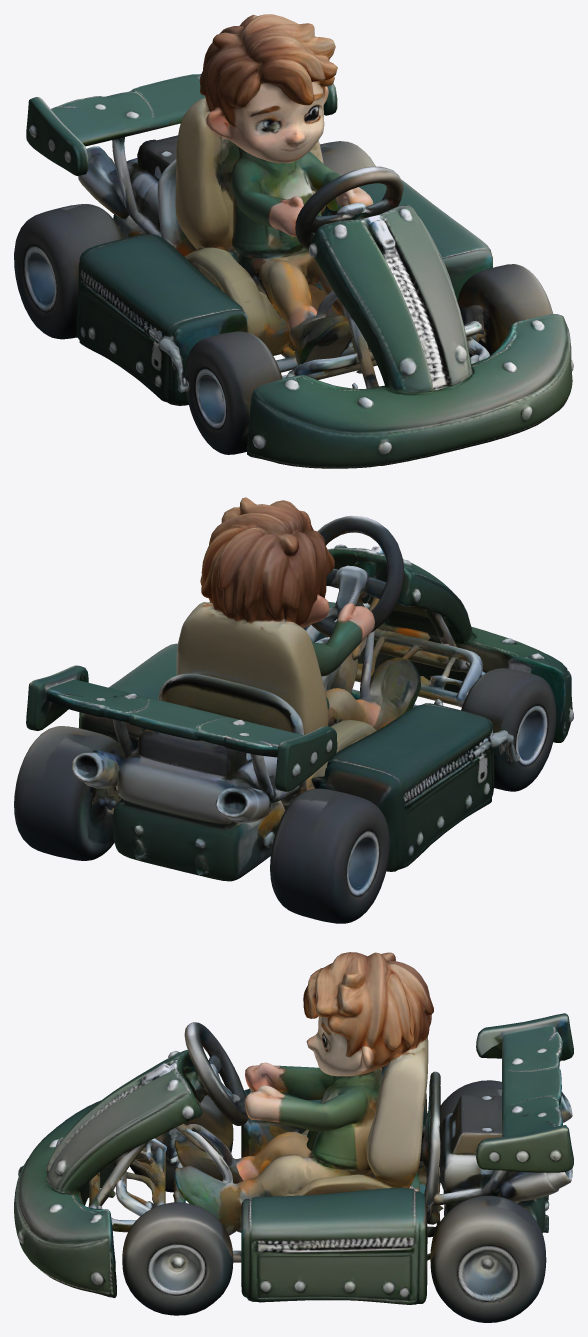
File: kyle_racer.glb
3 views of the same model, one above another, from view 1: azimuth 30°, elevation 25°; view 2: azimuth 150°, elevation 25°; view 3: azimuth 270°, elevation 25° (orthographic). The views are drawn at different scales.
Parts seen in each view (by area): view 1: tripo_node_59fedab5.001; view 2: tripo_node_59fedab5.001; view 3: tripo_node_59fedab5.001.
Boxes of the visible parts, x1,y1,x2,y2 form: tripo_node_59fedab5.001: (14, 14, 573, 468); tripo_node_59fedab5.001: (14, 497, 573, 923); tripo_node_59fedab5.001: (14, 952, 573, 1322).
Size of the model in its own units: 0.6375 by 0.5918 by 0.9998.
Materials: 1 (1 with a texture image).
